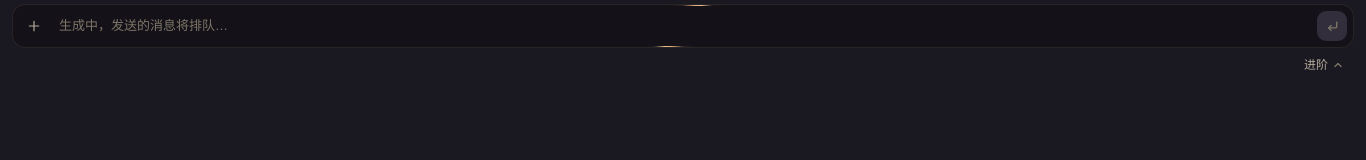
Test case: ChatInputBox · 使用小提示（时机提示） › 生成中开始打字 → 提示排队与 /btw；这一轮结束即收起
The image size is (1366, 160).
Type "再改一下" into the text box with class "chat-input" at (683, 26), box 55,11 -> 1311,41
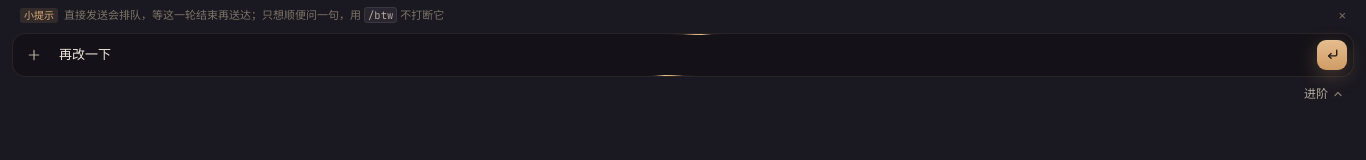
Expected: the element with class "input-tip-row" shows "/btw", 368,8 -> 393,22
